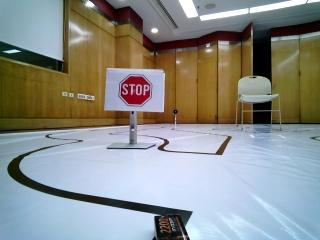stop: (106, 67, 162, 110)
